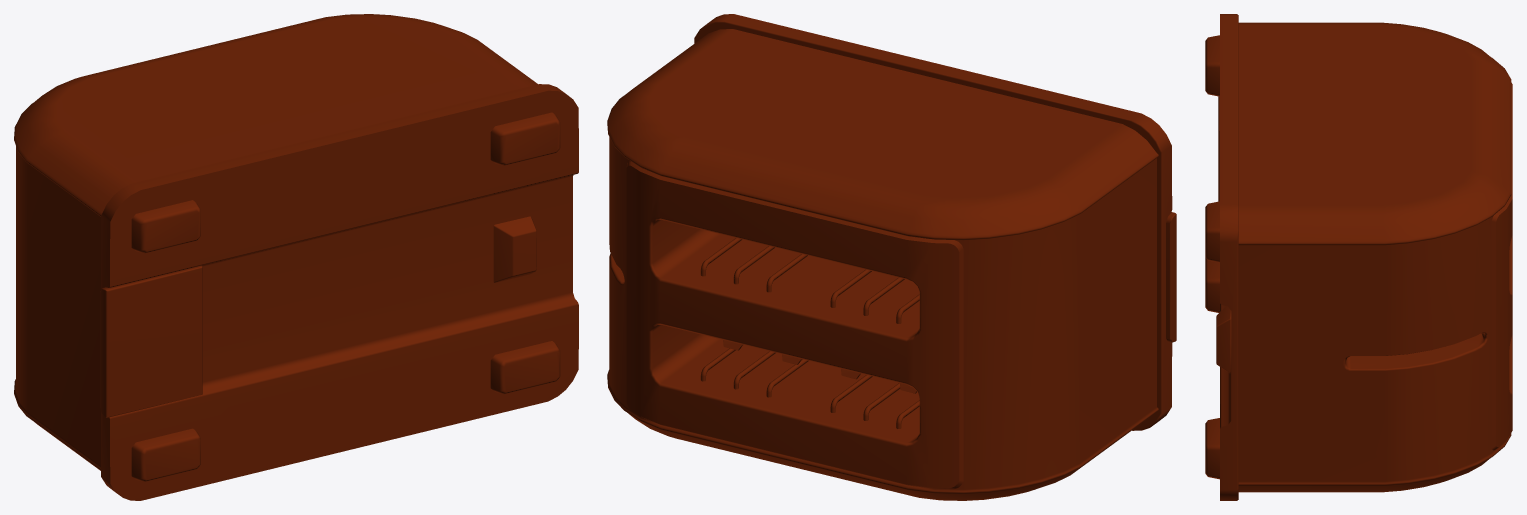
File: SM_Toster_01.fbx
The picture shows the model from 3 angles, left to right: view 1: azimuth 30°, elevation 25°; view 2: azimuth 150°, elevation 25°; view 3: azimuth 270°, elevation 25°; orthographic projection. The views are drawn at different scales.
Visible parts, largest first — view 1: SM_Toster_01; view 2: SM_Toster_01; view 3: SM_Toster_01.
Boxes of the visible parts, box(x1,y1,x2,y2) form: SM_Toster_01: box(14, 14, 578, 500); SM_Toster_01: box(607, 14, 1176, 500); SM_Toster_01: box(1205, 14, 1512, 500).
Bounding box in the file's own units: 49.13 × 30.82 × 29.16.
